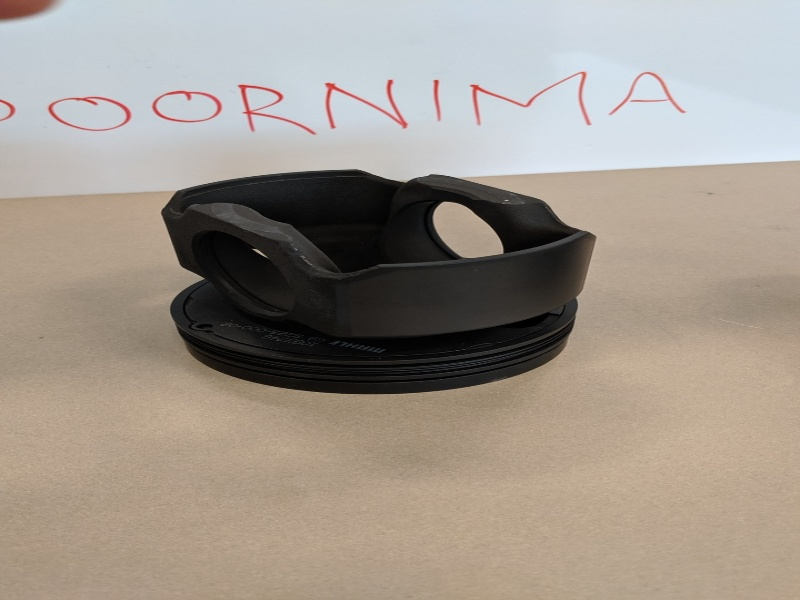piston: (158, 161, 603, 399)
